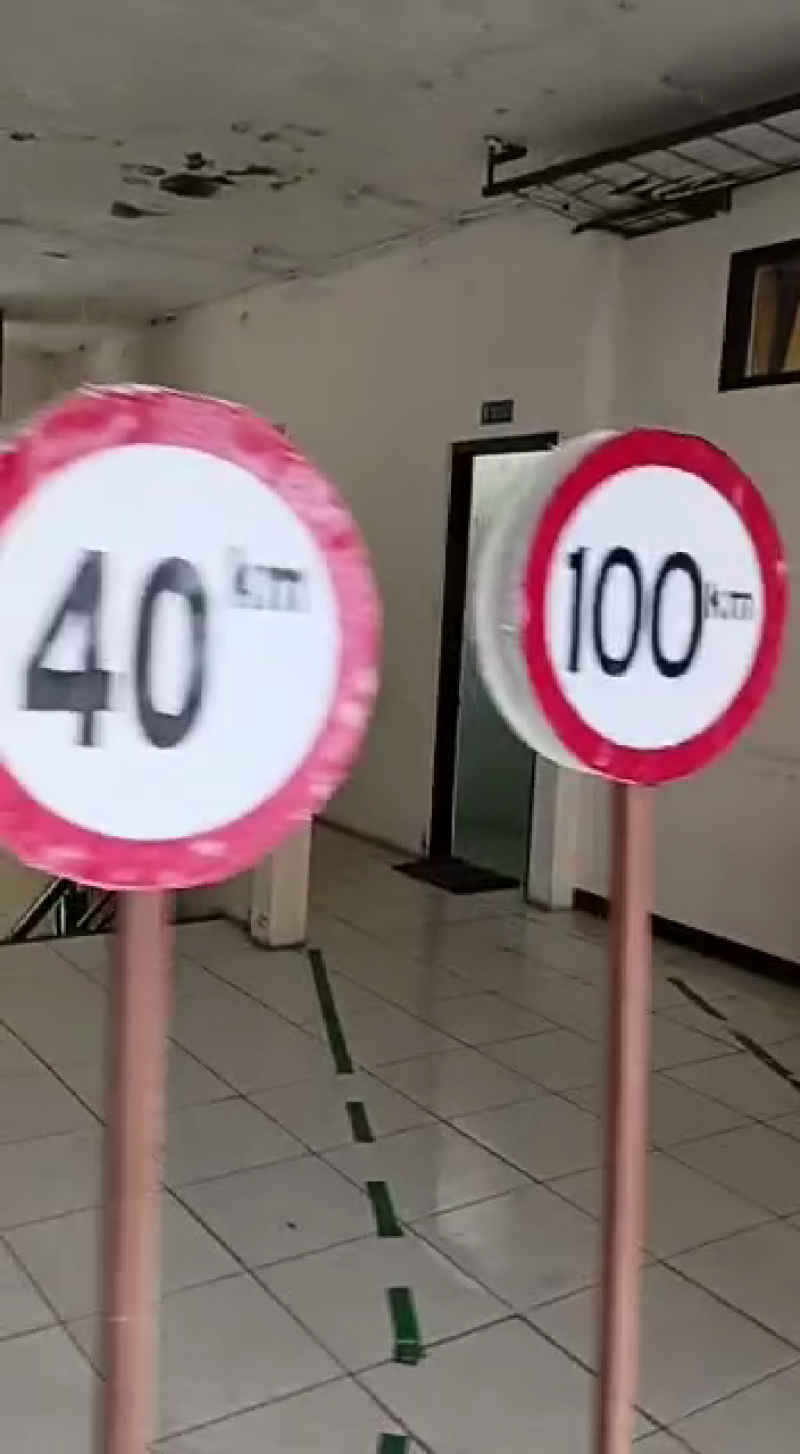batas maksimal 100kmperjam: (520, 418, 795, 789)
batas maksimal 40kmperjam: (1, 363, 385, 903)
